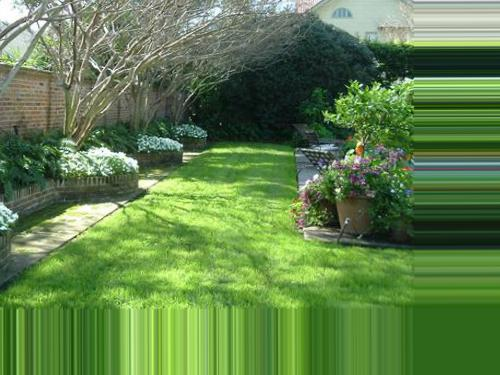patch: (30, 215, 90, 234)
